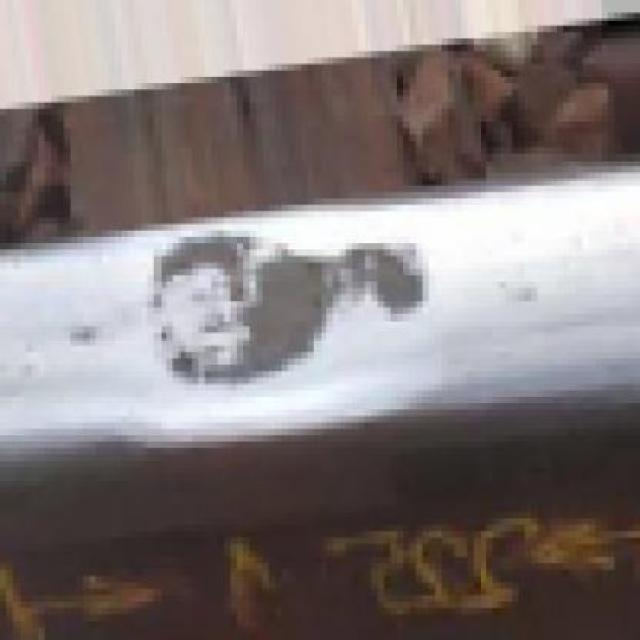defective: (74, 188, 461, 530)
